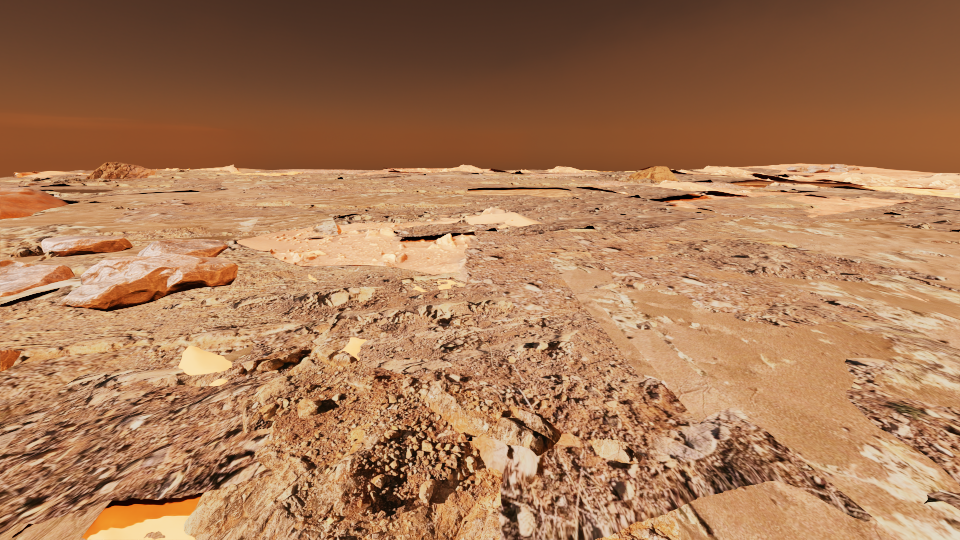bedrock: (0, 271, 871, 539), (228, 170, 716, 235), (642, 237, 959, 291), (844, 358, 959, 485), (731, 183, 959, 232), (734, 290, 895, 328), (0, 175, 229, 201), (9, 241, 111, 273), (285, 170, 538, 179), (217, 253, 298, 275), (538, 245, 606, 270), (147, 169, 266, 181), (393, 219, 474, 236), (673, 173, 756, 187), (360, 188, 478, 195), (461, 180, 595, 186), (924, 489, 959, 509), (724, 202, 818, 209), (737, 168, 812, 176), (592, 282, 658, 289), (636, 320, 656, 329), (302, 186, 344, 189), (129, 241, 153, 246), (926, 240, 959, 243), (108, 205, 123, 208)
hole: (735, 184, 766, 186)
rocks: (57, 238, 238, 311), (0, 259, 74, 296), (41, 236, 132, 256), (0, 287, 60, 306), (86, 162, 155, 178), (629, 166, 678, 180), (785, 164, 859, 172), (0, 349, 21, 371)
sand: (548, 259, 959, 539), (649, 194, 959, 288), (0, 179, 463, 238), (0, 493, 203, 539), (711, 187, 915, 217), (0, 274, 81, 303), (178, 346, 252, 374), (733, 164, 844, 178), (857, 185, 959, 197), (847, 166, 939, 179), (467, 187, 579, 197), (204, 168, 321, 175), (313, 312, 337, 345), (339, 338, 366, 360), (103, 245, 148, 258), (116, 188, 203, 193), (358, 168, 408, 174), (438, 280, 464, 289), (15, 256, 40, 261), (210, 379, 226, 385), (413, 286, 427, 291), (352, 266, 359, 274)
soil: (0, 219, 803, 336), (0, 345, 149, 421), (225, 172, 621, 199), (111, 199, 441, 223), (0, 227, 238, 259), (686, 194, 892, 225), (0, 181, 136, 218), (246, 318, 325, 348), (160, 174, 356, 183), (796, 180, 949, 191), (324, 328, 391, 349), (110, 178, 244, 184), (393, 168, 456, 175), (721, 171, 767, 180), (685, 172, 739, 179), (535, 215, 586, 222), (51, 170, 93, 178), (249, 169, 320, 173), (240, 310, 280, 316), (132, 365, 178, 370), (899, 291, 923, 300), (804, 191, 836, 197), (391, 192, 429, 196), (795, 178, 832, 182), (184, 169, 229, 172), (462, 195, 505, 198), (940, 204, 959, 210), (728, 181, 773, 183), (435, 218, 464, 221), (154, 169, 182, 172), (487, 208, 502, 213), (777, 182, 792, 185), (727, 185, 749, 187)
